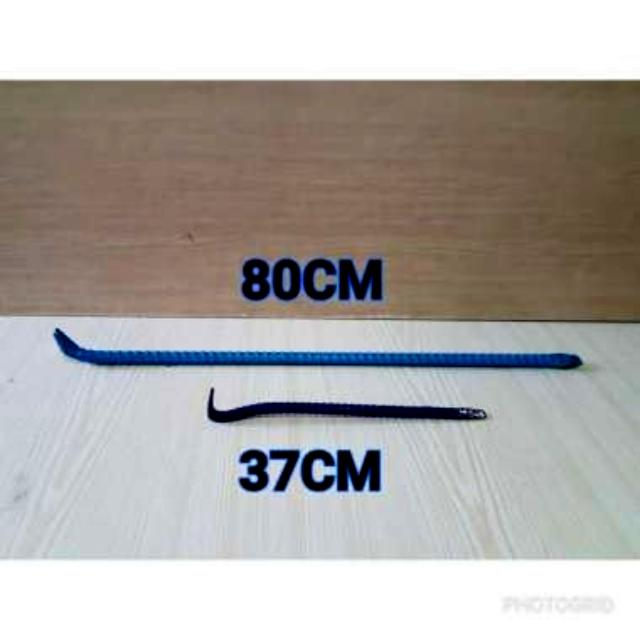crow bar: (51, 323, 584, 376)
